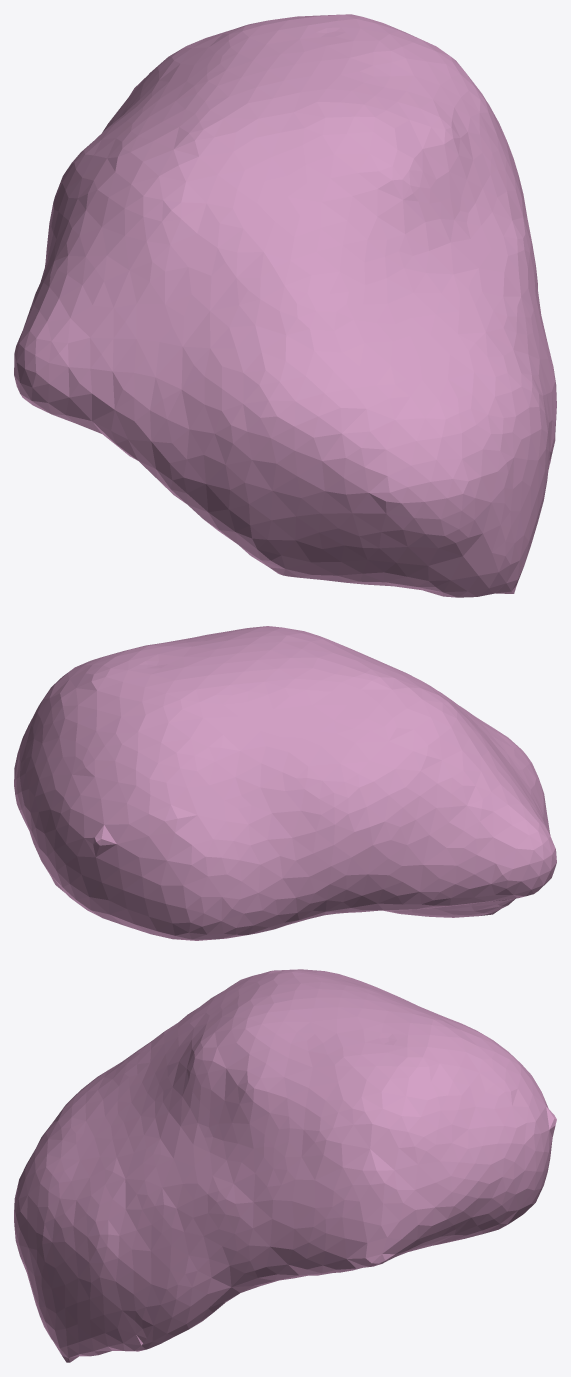
The model's file is Right_Amygdala.glb.
3 renders of one model, top to bottom at view 1: azimuth 30°, elevation 25°; view 2: azimuth 150°, elevation 25°; view 3: azimuth 270°, elevation 25°, orthographic. The views are drawn at different scales.
Parts seen in each view (by area): view 1: world; view 2: world; view 3: world.
Boxes of the visible parts, box(x1,y1,x2,y2) form: world: box(14, 14, 556, 597); world: box(14, 626, 556, 940); world: box(14, 969, 556, 1362).
Size of the model in its own units: 20.99 by 15.22 by 22.31.
